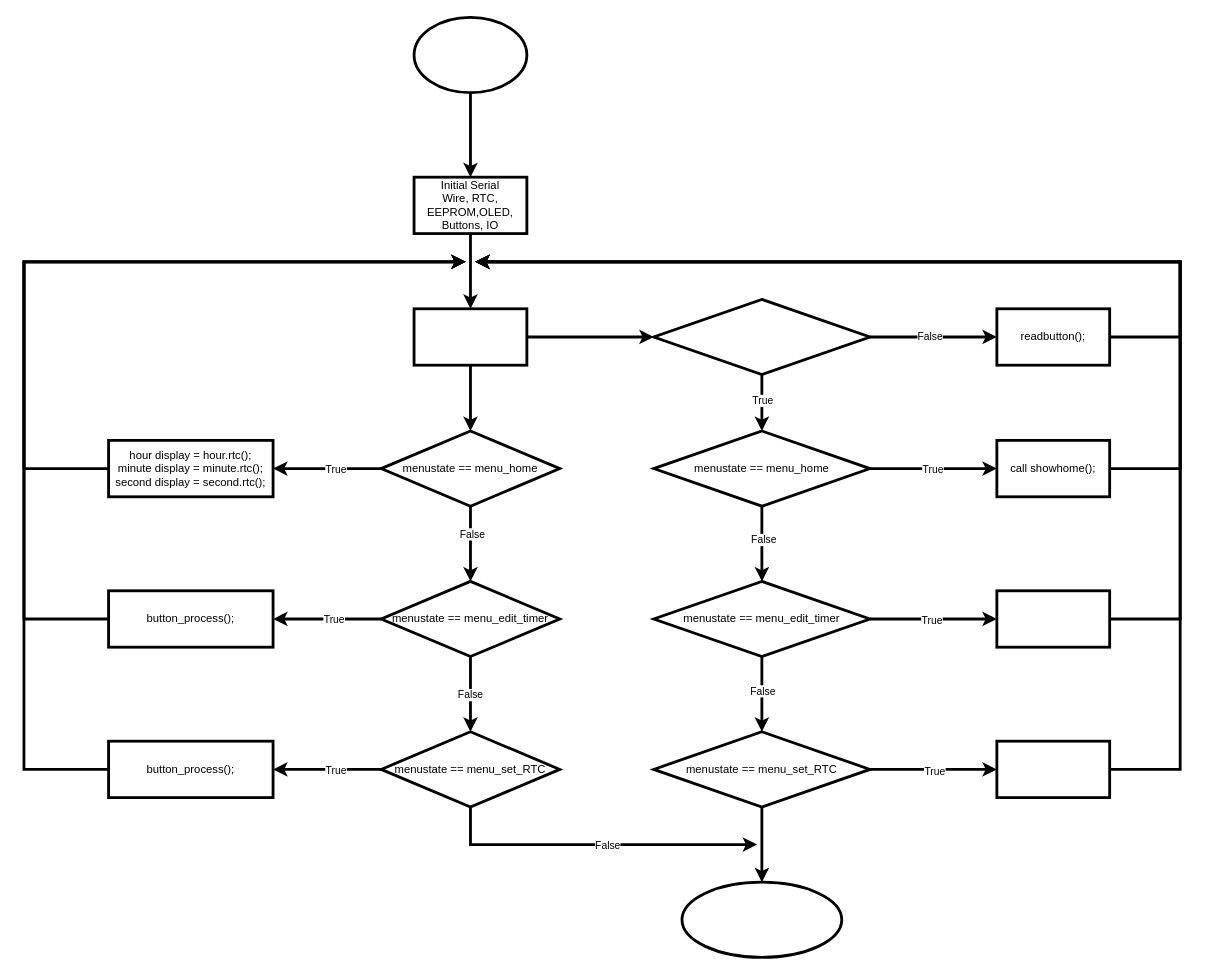
Image size: 1205x975. Some labels were removed from this diagram. Here are the shapes that lost their labels. From the top down, the centre of each, then its label:
At point (470, 55): "BEGIN".
At point (470, 336): "call updateRelays();".
At point (761, 337): "millis() - Timer > interval".
At point (1053, 618): "call showedittimer();".
At point (1053, 769): "call showsetRTC();".
At point (761, 919): "END.".
